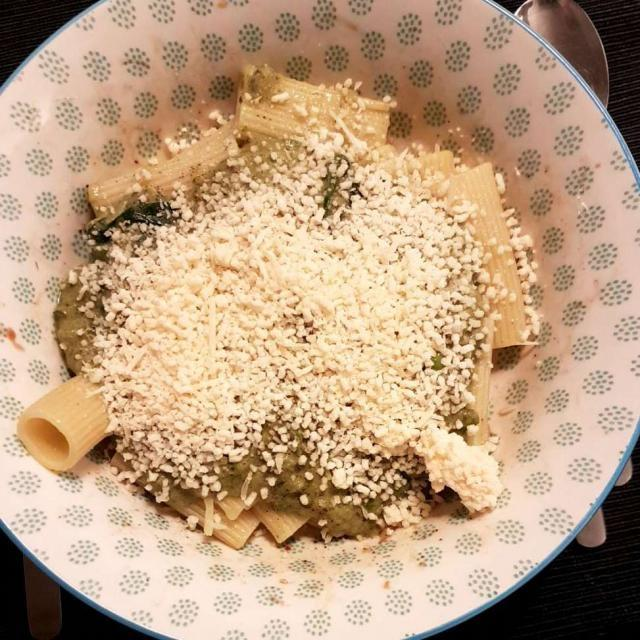gruyere: (78, 139, 494, 520)
